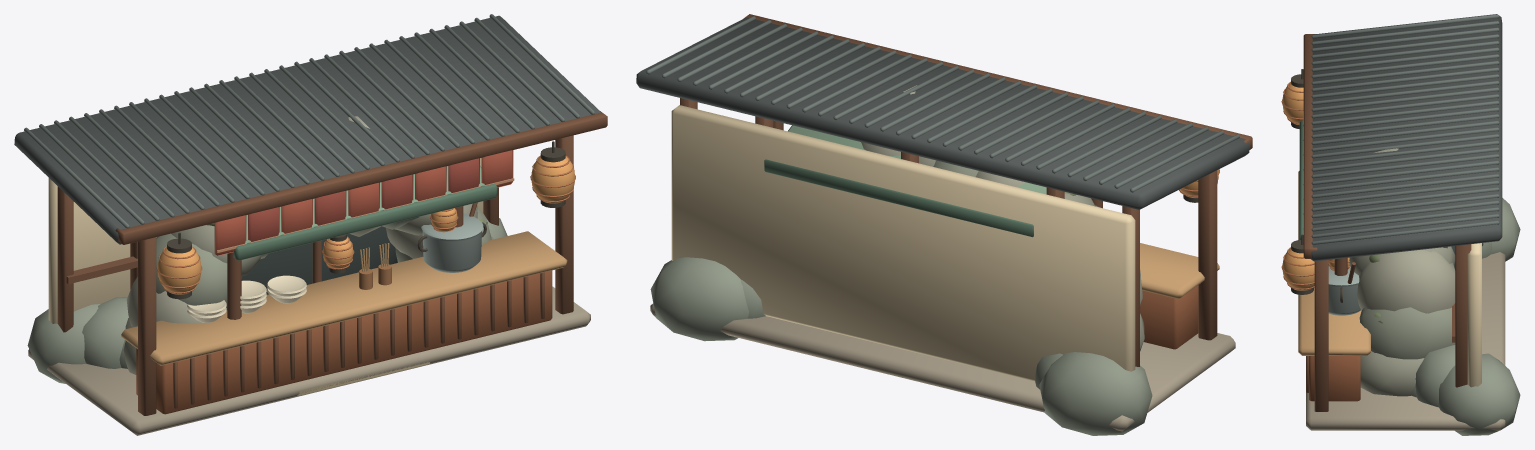
File: places.glb
3 renders of one model, left to right at view 1: azimuth 30°, elevation 25°; view 2: azimuth 150°, elevation 25°; view 3: azimuth 270°, elevation 25°, orthographic. The views are drawn at different scales.
Parts seen in each view (by area): view 1: place_noodle_shop, place_cave_home, place_field_shelter, place_cave_lamp; view 2: place_noodle_shop, place_cave_home, place_field_shelter; view 3: place_noodle_shop, place_cave_home, place_field_shelter.
Part boxes in pixels (box(x1,y1,x2,y2)): place_noodle_shop: box(14, 14, 607, 435); place_cave_home: box(27, 116, 507, 395); place_field_shelter: box(227, 166, 497, 319); place_cave_lamp: box(312, 234, 354, 283); place_noodle_shop: box(636, 14, 1252, 431); place_cave_home: box(650, 85, 1152, 435); place_field_shelter: box(764, 125, 1102, 237); place_noodle_shop: box(1281, 14, 1505, 430); place_cave_home: box(1349, 148, 1520, 435); place_field_shelter: box(1299, 120, 1483, 275).
Bounding box in the file's own units: 5.85 × 2.96 × 2.73.
